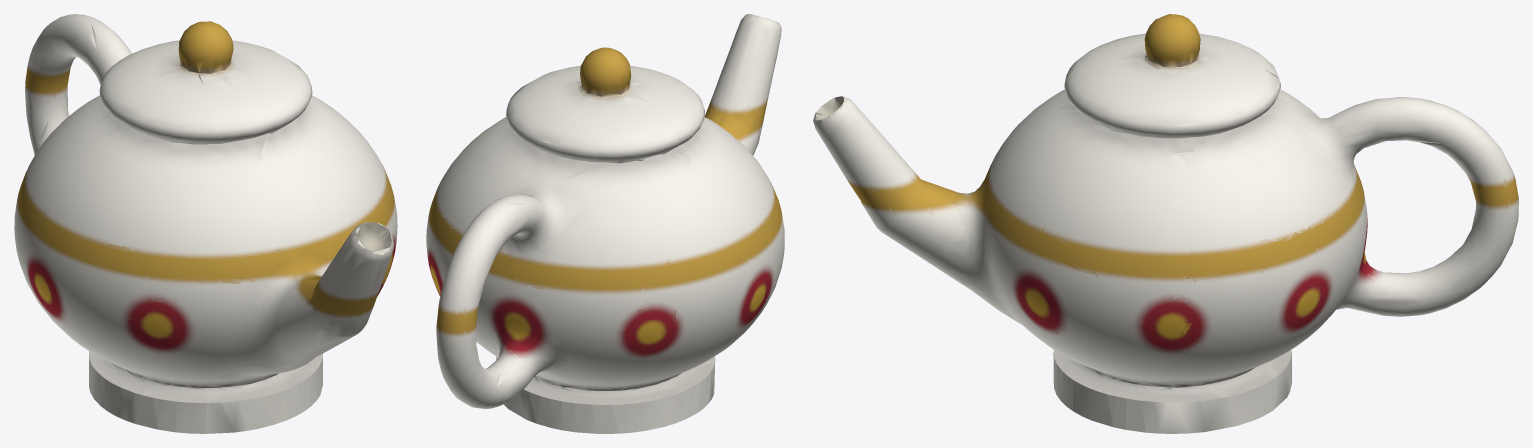
The model's file is teapot_edits.glb.
The picture shows the model from 3 angles, left to right: view 1: azimuth 30°, elevation 25°; view 2: azimuth 150°, elevation 25°; view 3: azimuth 270°, elevation 25°; orthographic projection. The views are drawn at different scales.
Visible parts, largest first — view 1: teapot_edits; view 2: teapot_edits; view 3: teapot_edits.
Part boxes in pixels (x1=…): teapot_edits: x1=14, y1=14, x2=397, y2=433; teapot_edits: x1=426, y1=14, x2=784, y2=433; teapot_edits: x1=813, y1=14, x2=1518, y2=433.
Bounding box in the file's own units: 0.1799 × 0.1869 × 0.3257.
1 material, 1 textured.
